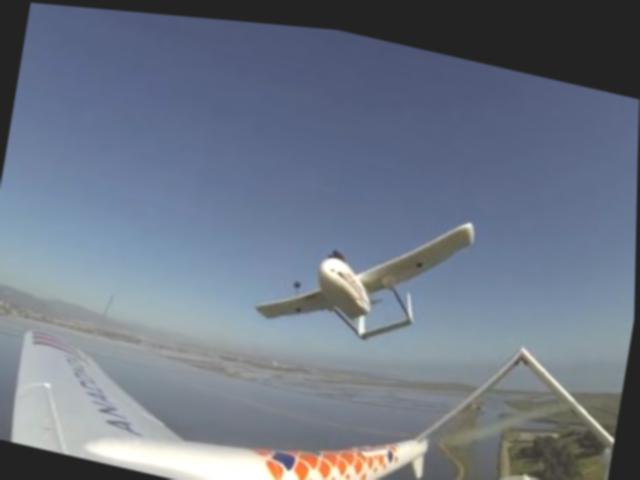uav: (252, 172, 476, 358)
